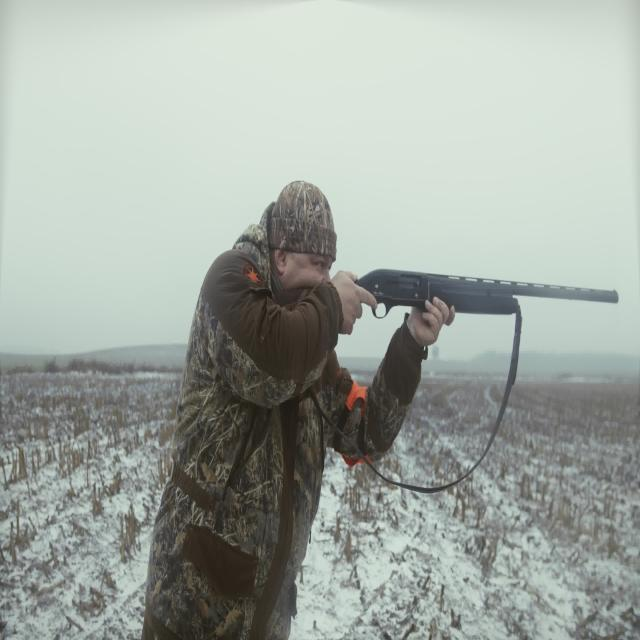poacher: (228, 222, 407, 630)
weapon: (311, 262, 591, 370)
